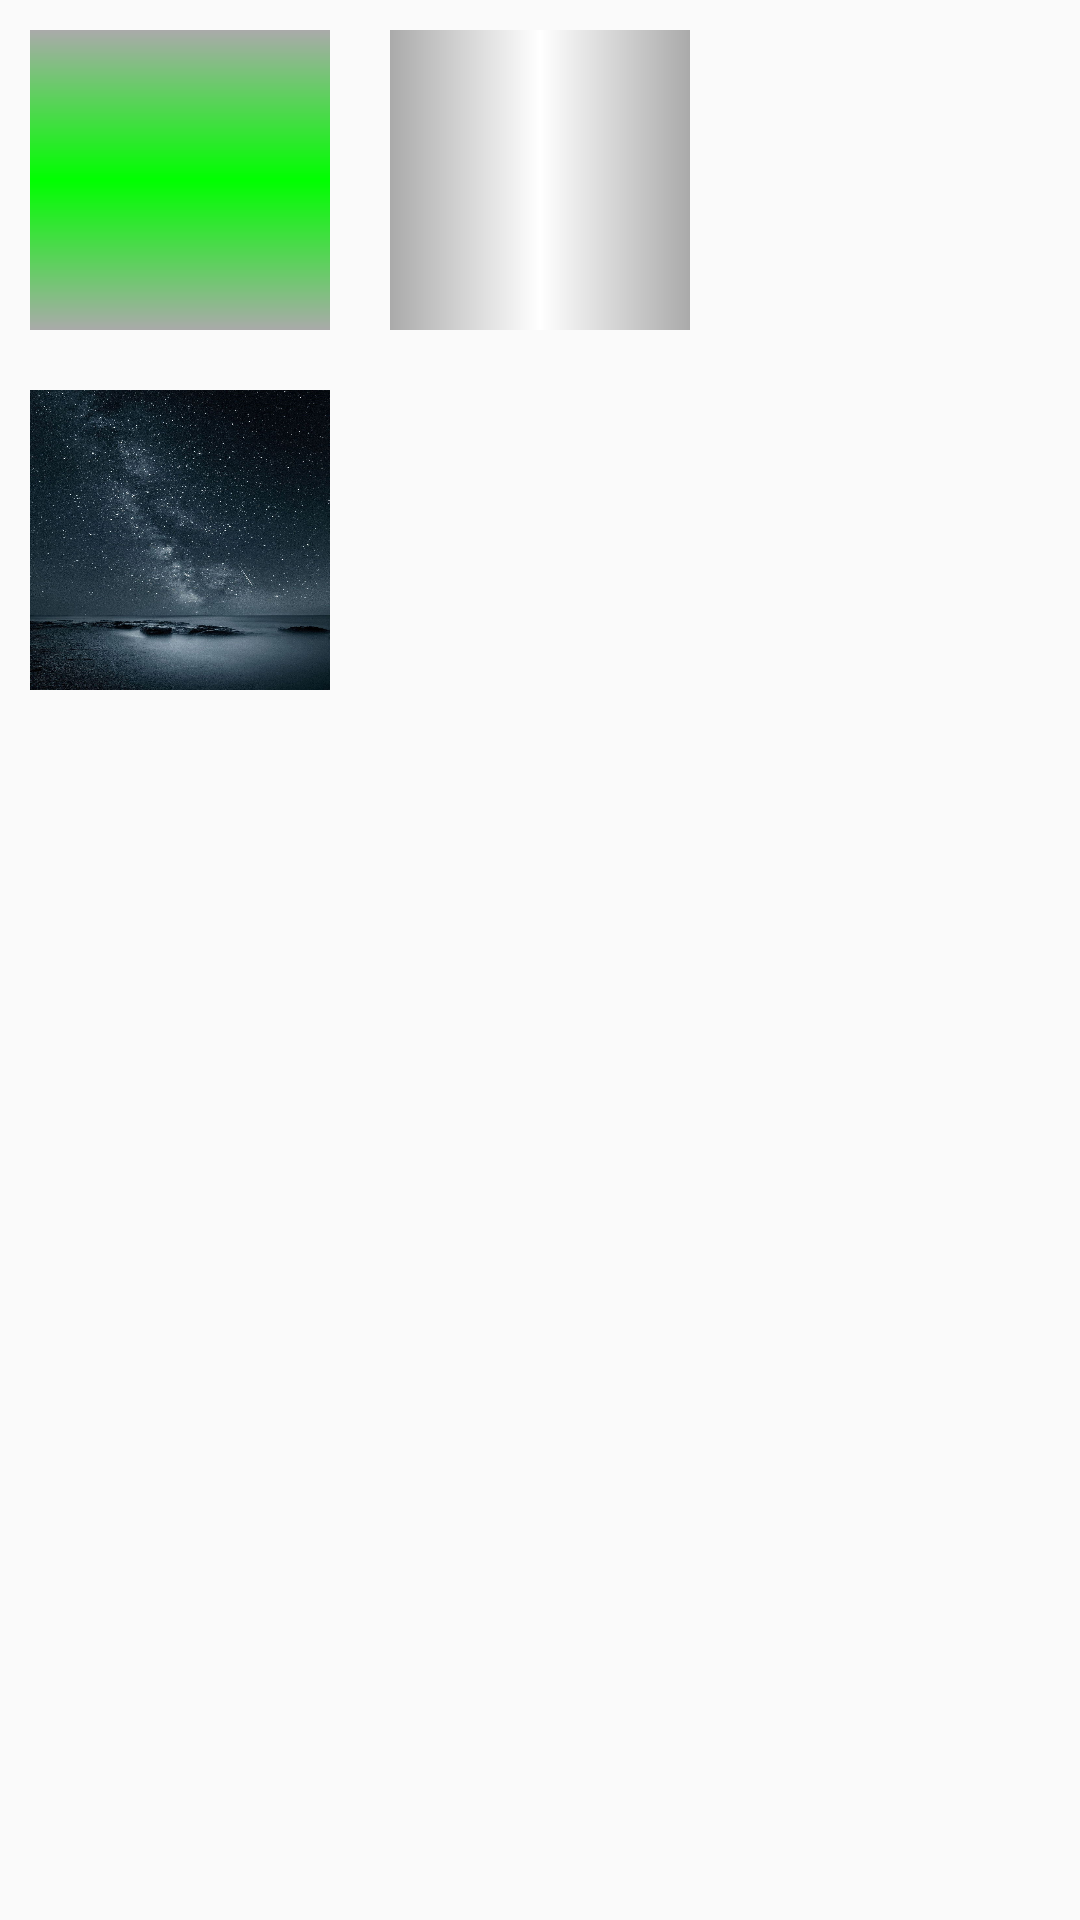

Icon bounding boxes for this 1080px×1920px phone screenshot, format (x1, y1, x2, y2):
pozadina: (30, 390, 330, 690)
